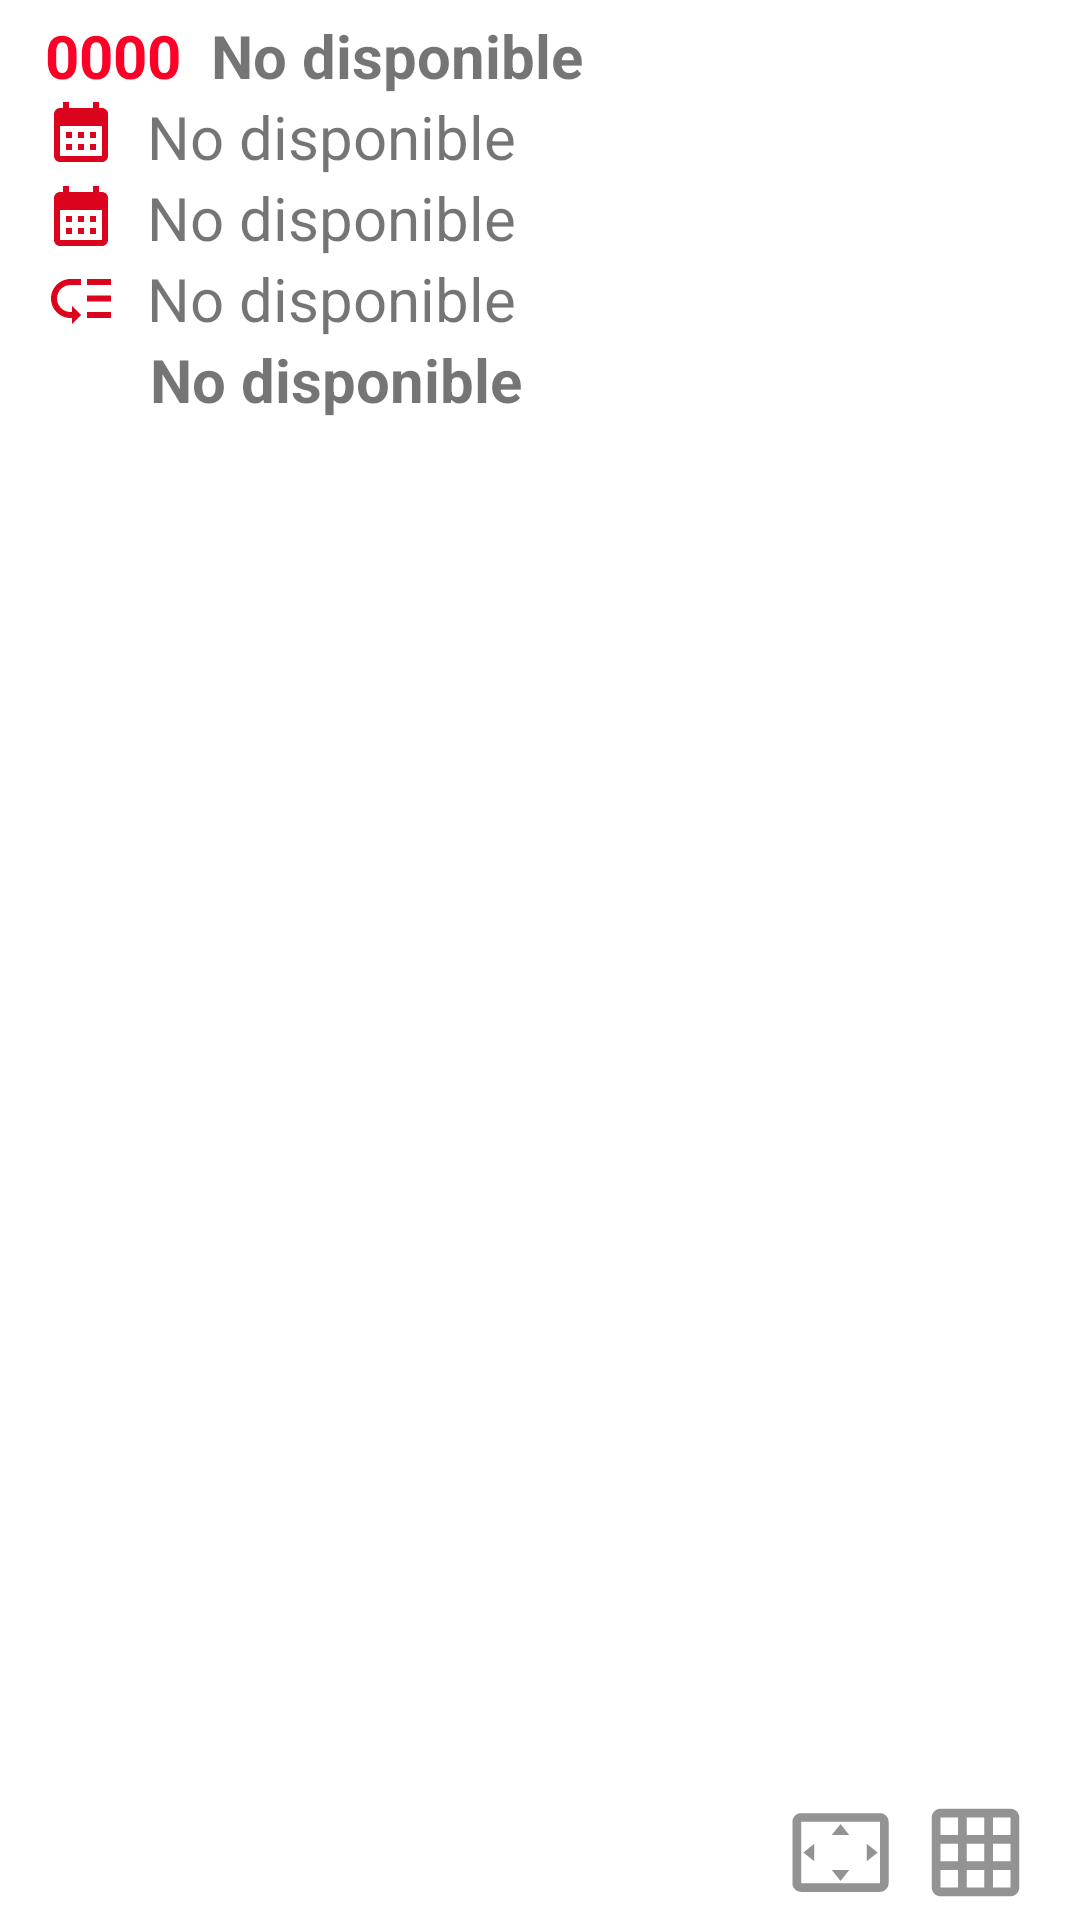

Icon click points for this 1080×1920 phone screenshot, format [x,y]:
calendar month: [81,132], [81,216]
grid on: [975,1852]
low priority: [81,301]
settings overscan: [840,1852]
